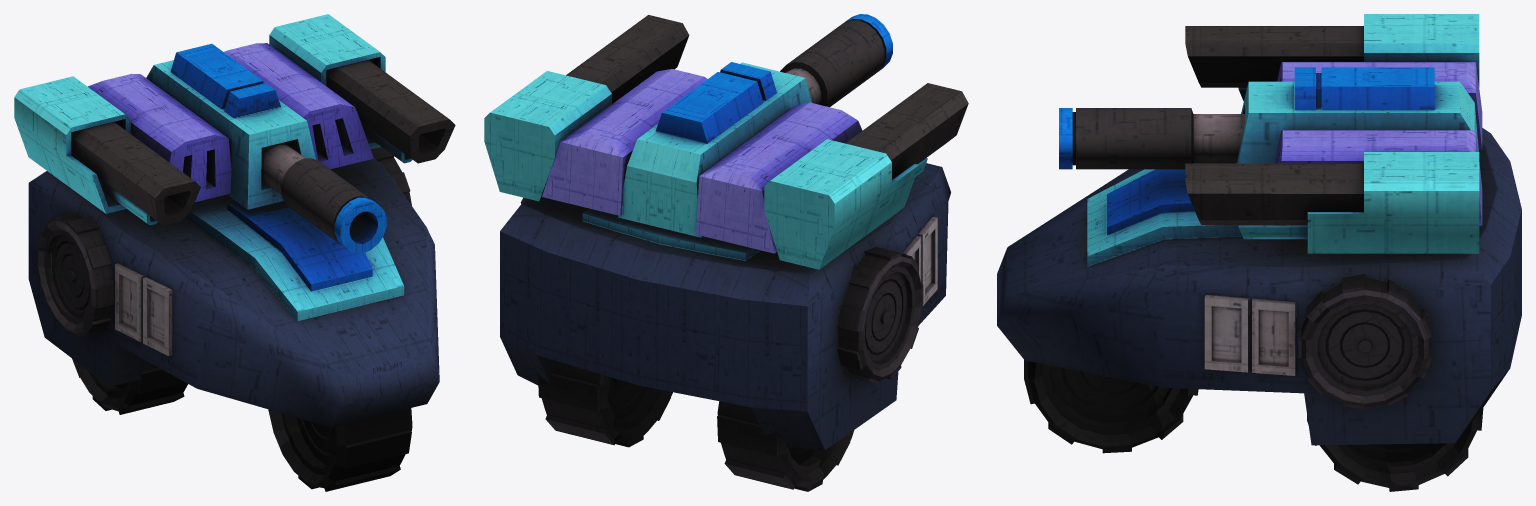
File: PlayerA15.obj
3 views of the same model, side by side, from view 1: azimuth 30°, elevation 25°; view 2: azimuth 150°, elevation 25°; view 3: azimuth 270°, elevation 25° (orthographic). The views are drawn at different scales.
Parts seen in each view (by area): view 1: Object001, Object002, Object004, Object003; view 2: Object001, Object002, Object003; view 3: Object001, Object002, Object004, Object003.
Part boxes in pixels (x1,y1,x2,y2): Object001: [28, 43, 439, 427]; Object002: [14, 14, 455, 225]; Object004: [268, 408, 412, 491]; Object003: [72, 358, 187, 414]; Object001: [500, 14, 950, 450]; Object002: [484, 15, 968, 269]; Object003: [538, 360, 854, 491]; Object001: [997, 62, 1521, 445]; Object002: [1185, 14, 1479, 253]; Object004: [1024, 360, 1198, 453]; Object003: [1307, 406, 1483, 491].
Bounding box in the file's own units: 93.13 × 89.66 × 119.
1 material, 1 textured.
